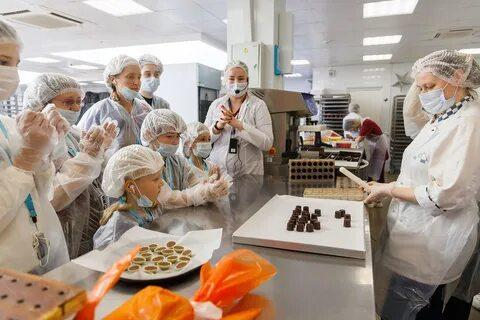hairnet: (106, 137, 167, 203), (22, 77, 98, 118), (136, 107, 194, 148), (414, 51, 480, 84), (134, 48, 177, 80), (102, 49, 138, 87), (0, 24, 34, 62), (212, 61, 256, 84)
mask: (418, 77, 466, 124), (0, 63, 34, 114), (56, 99, 88, 126), (141, 67, 166, 101), (193, 136, 218, 165), (166, 129, 185, 163), (223, 81, 251, 103), (115, 78, 137, 104)
